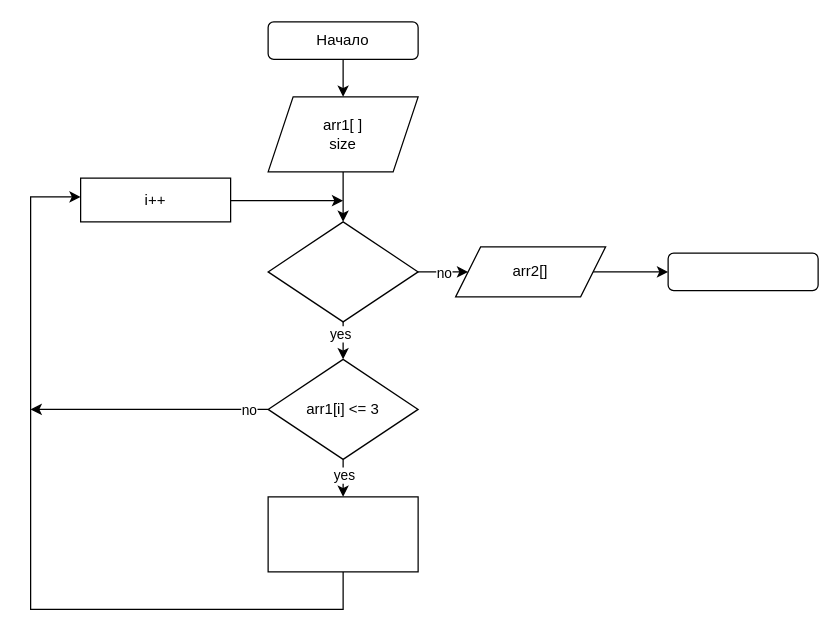
This 840x641 diagram has some shape labels left out. Each missing label, with the centre of its shape:
"arr2[j] = arr1[i] j++" belongs at (x=342, y=534).
"i < size" belongs at (x=342, y=271).
"Конец" belongs at (x=742, y=271).
